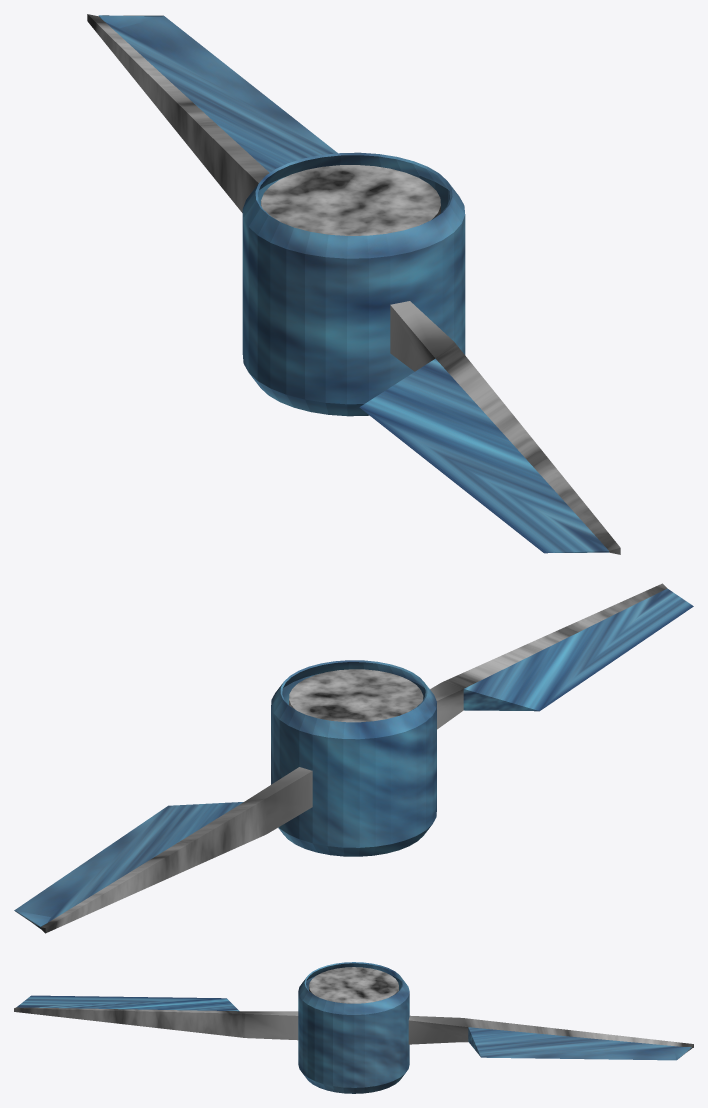
File: Spinner.fbx
3 renders of one model, top to bottom at view 1: azimuth 30°, elevation 25°; view 2: azimuth 150°, elevation 25°; view 3: azimuth 270°, elevation 25°, orthographic. The views are drawn at different scales.
Parts seen in each view (by area): view 1: Spinner; view 2: Spinner; view 3: Spinner.
Part boxes in pixels (x1,y1,x2,y2): Spinner: [87, 14, 620, 554]; Spinner: [14, 583, 693, 933]; Spinner: [14, 962, 693, 1093].
Bounding box in the file's own units: 174 × 112 × 769.
